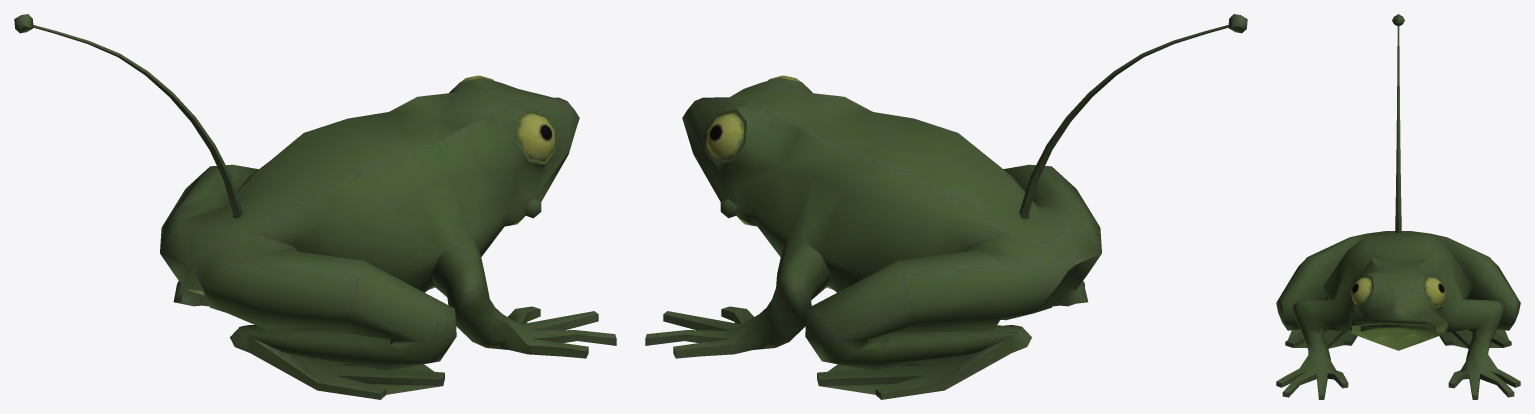
3 views of the same model, side by side, from view 1: azimuth 30°, elevation 25°; view 2: azimuth 150°, elevation 25°; view 3: azimuth 270°, elevation 25° (orthographic). The views are drawn at different scales.
Parts seen in each view (by area): view 1: body0_model0_lod0_mesh0; view 2: body0_model0_lod0_mesh0; view 3: body0_model0_lod0_mesh0.
Part boxes in pixels (<box>): body0_model0_lod0_mesh0: <box>14,14,616,399</box>; body0_model0_lod0_mesh0: <box>645,14,1247,399</box>; body0_model0_lod0_mesh0: <box>1276,14,1520,399</box>.
Size of the model in its own units: 60.28 by 39.45 by 37.44.
Materials: 1 (1 with a texture image).
